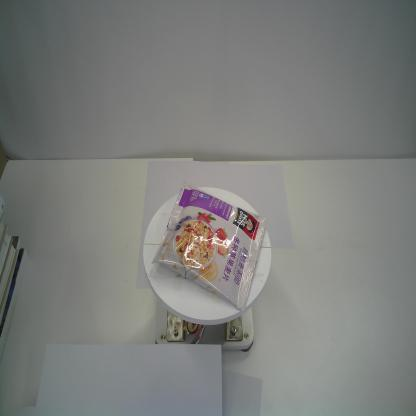Instant Drink: (151, 180, 267, 314)
